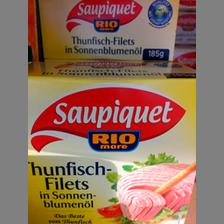Fisch: (27, 59, 193, 223)
